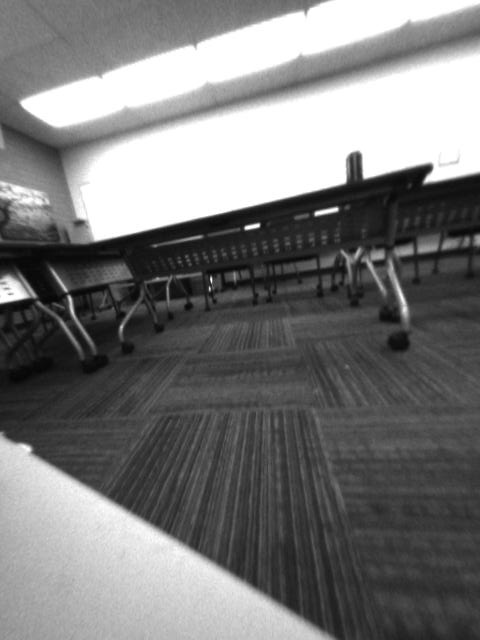can: (342, 151, 368, 188)
